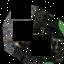Purslane: (6, 1, 64, 64)
